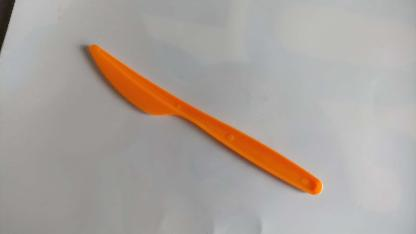Others: (88, 43, 324, 197)
